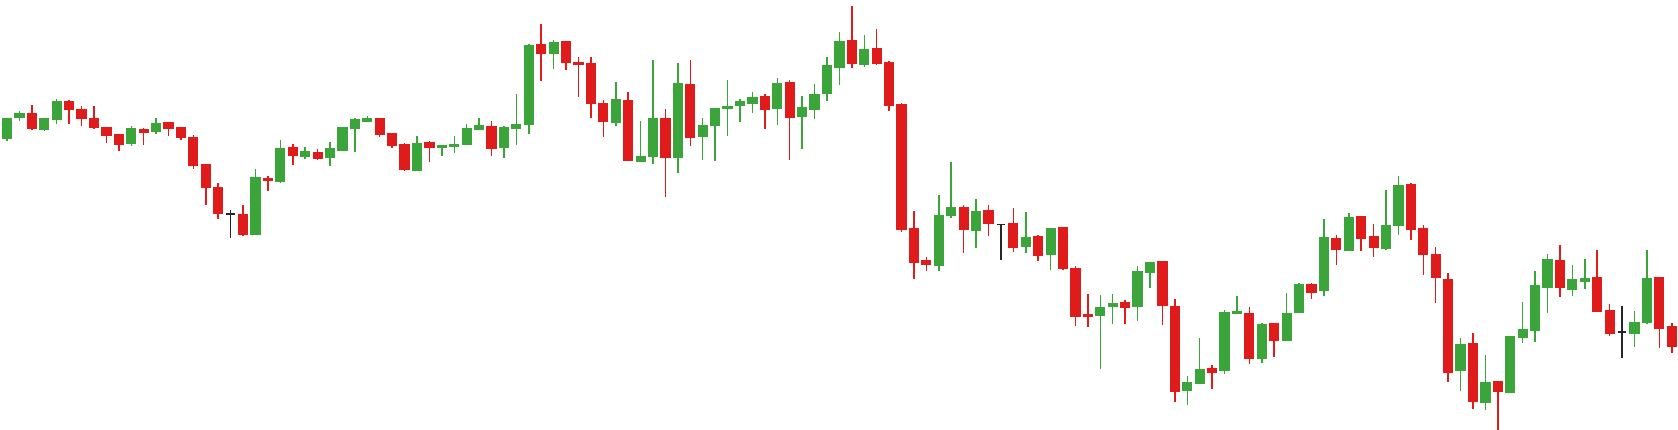buy: (1094, 281, 1205, 410)
sell: (535, 7, 857, 123)
